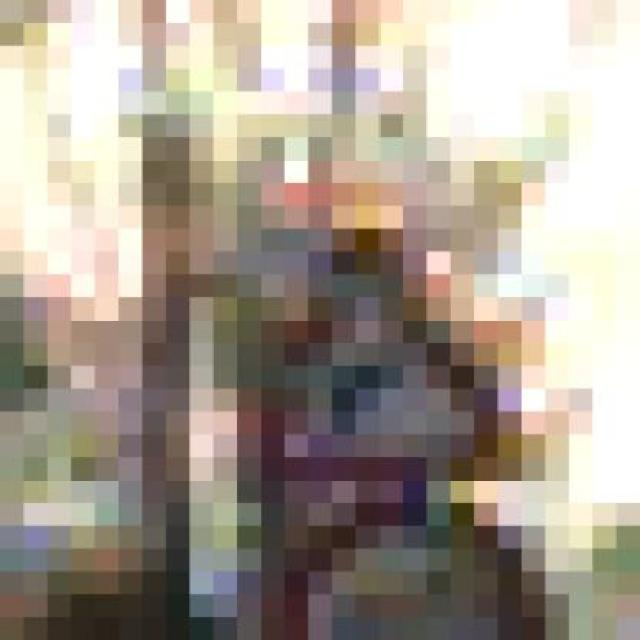Dangerous Rright Curve Ahead: (190, 228, 545, 502)
